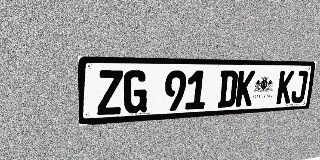1: (185, 70, 207, 110)
9: (164, 70, 187, 111)
D: (217, 70, 238, 108)
G: (123, 70, 148, 114)
J: (290, 71, 308, 103)
K: (235, 70, 255, 107), (276, 71, 295, 104)
Z: (97, 70, 123, 115)
